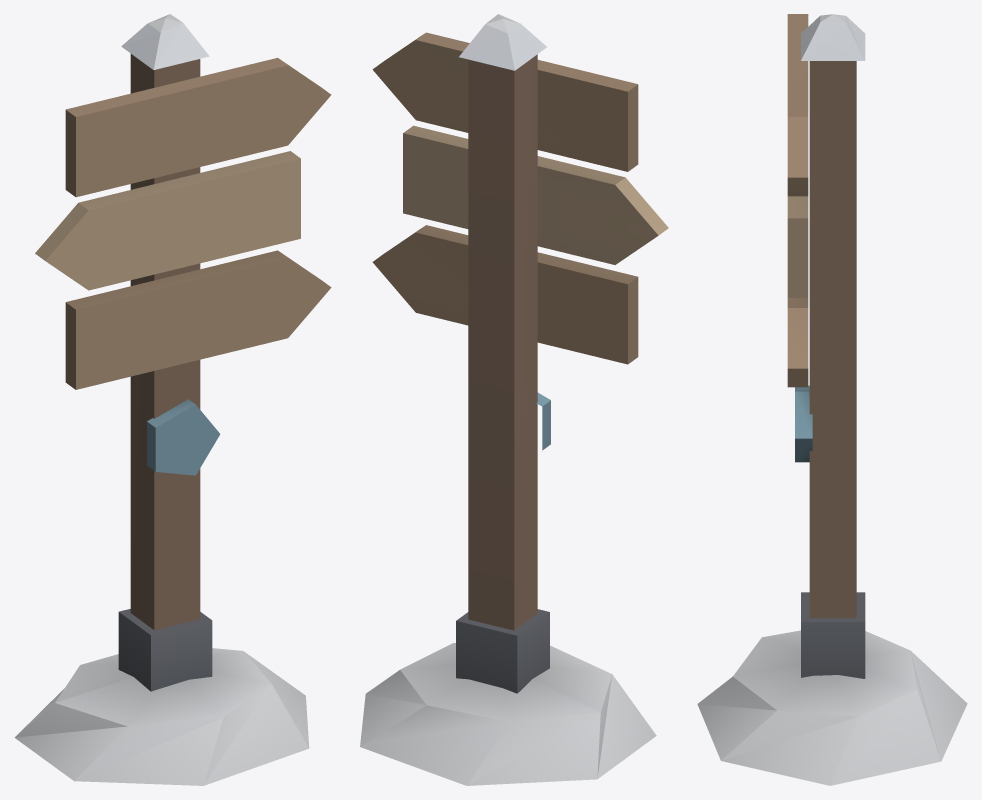
File: wayfinder.lod1.glb
3 renders of one model, left to right at view 1: azimuth 30°, elevation 25°; view 2: azimuth 150°, elevation 25°; view 3: azimuth 270°, elevation 25°, orthographic.
Bounding box in the file's own units: 1.12 × 2.65 × 0.923.
